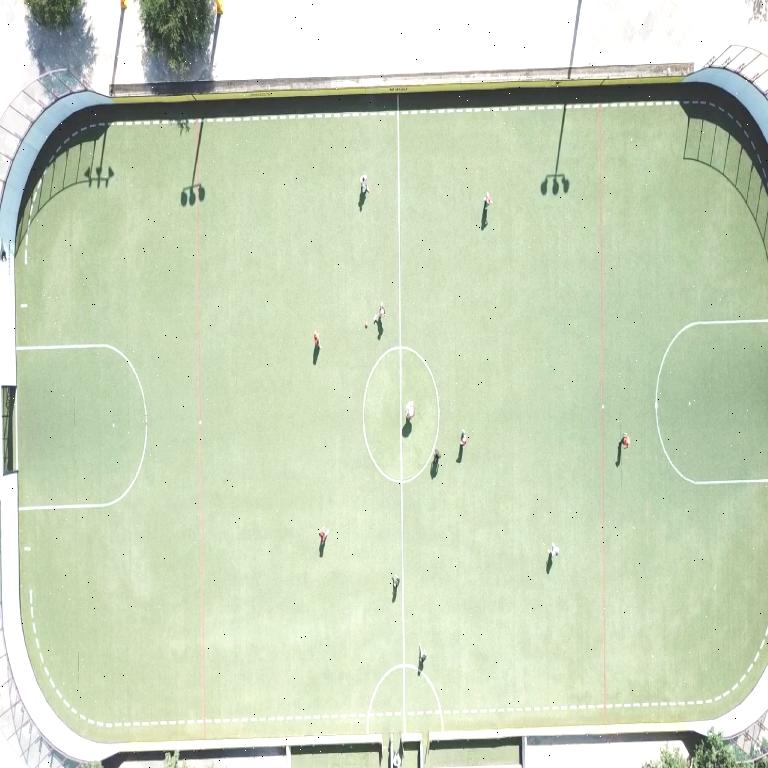AC: (655, 318, 768, 484), (19, 420, 147, 508), (19, 345, 146, 418)
B: (365, 321, 368, 327)
MC: (397, 94, 404, 732)
P: (373, 302, 384, 323), (432, 448, 440, 470), (418, 644, 426, 666), (405, 402, 414, 421), (319, 526, 328, 545), (360, 174, 368, 194), (548, 542, 558, 557), (460, 429, 468, 447), (314, 330, 322, 348), (620, 434, 629, 449), (483, 191, 491, 207), (391, 574, 399, 589)
